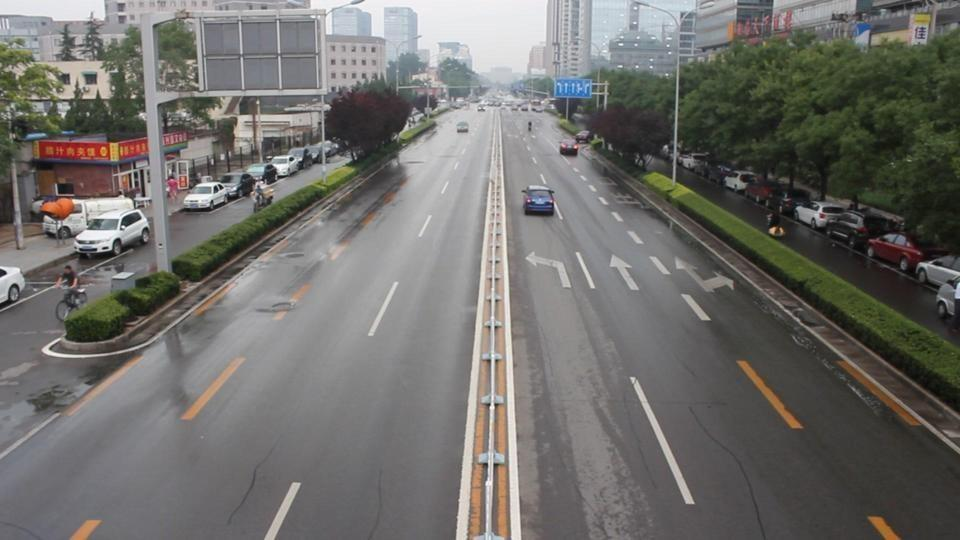car: (73, 208, 152, 259), (866, 232, 946, 278), (827, 207, 906, 253), (916, 254, 960, 292), (794, 203, 848, 231), (183, 182, 229, 211), (216, 172, 256, 200), (934, 277, 959, 321), (0, 265, 25, 309), (30, 196, 78, 218), (521, 185, 556, 215), (287, 145, 325, 168), (268, 154, 302, 178), (722, 172, 755, 194), (244, 163, 278, 182), (253, 183, 275, 208), (559, 140, 578, 157), (456, 120, 469, 133), (478, 102, 486, 111)
